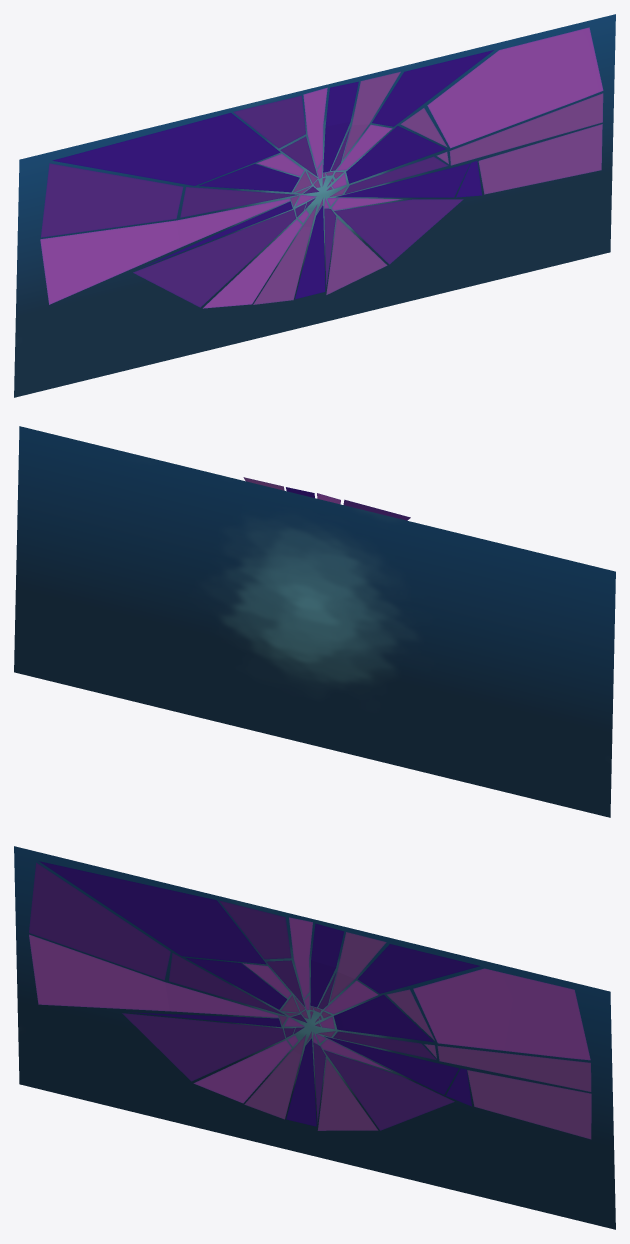
Rendered from stg3_sky.gltf.
The picture shows the model from 3 angles, top to bottom: view 1: azimuth 30°, elevation 25°; view 2: azimuth 150°, elevation 25°; view 3: azimuth 330°, elevation 25°; orthographic projection.
Visible parts, largest first — view 1: wall_GEO:PIV; view 2: wall_GEO:PIV; view 3: wall_GEO:PIV.
Boxes of the visible parts, bbox=[...] form: wall_GEO:PIV: bbox=[14, 14, 615, 397]; wall_GEO:PIV: bbox=[14, 426, 615, 817]; wall_GEO:PIV: bbox=[14, 846, 615, 1229].
Size of the model in its own units: 125643 by 49009 by 3969.
1 material, 1 textured.
